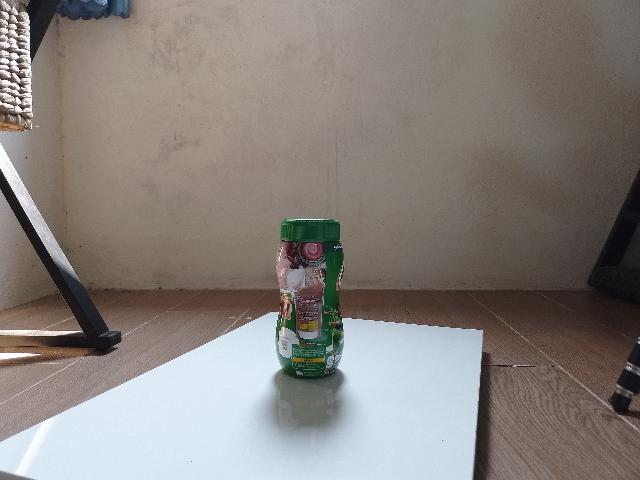milo: (275, 219, 344, 380)
